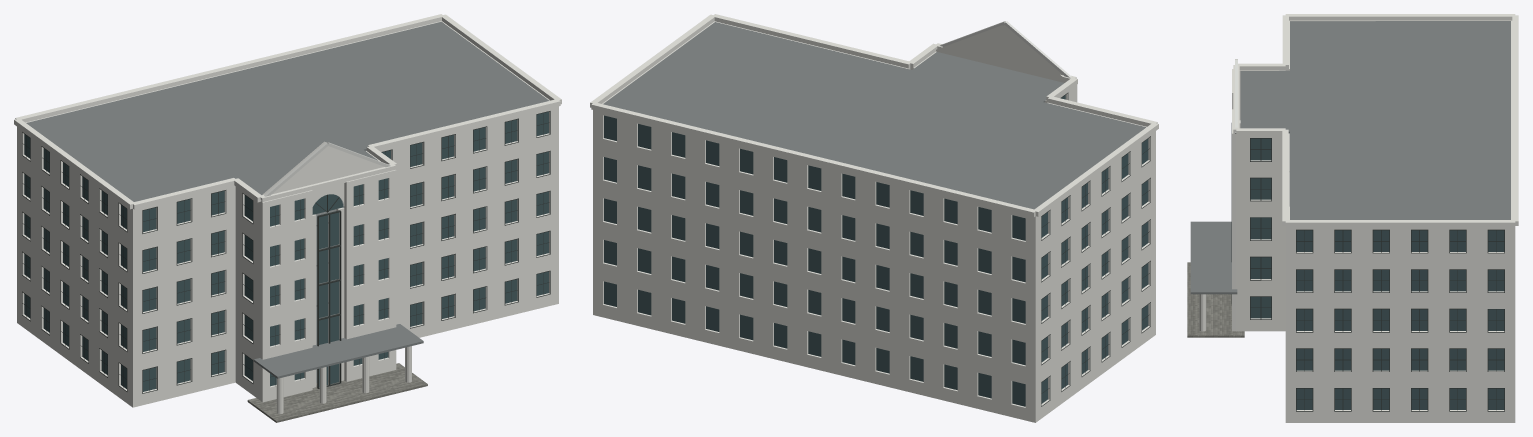
The picture shows the model from 3 angles, left to right: view 1: azimuth 30°, elevation 25°; view 2: azimuth 150°, elevation 25°; view 3: azimuth 270°, elevation 25°; orthographic projection. The views are drawn at different scales.
Visible parts, largest first — view 1: alumni__cream, alumni__roof, alumni__glass, alumni__frame, alumni__rough, alumni__light; view 2: alumni__cream, alumni__roof, alumni__glass, alumni__frame, alumni__light; view 3: alumni__roof, alumni__cream, alumni__glass, alumni__frame, alumni__rough.
Part boxes in pixels (x1,y1,x2,y2): alumni__cream: [14, 14, 561, 413]; alumni__roof: [26, 21, 548, 382]; alumni__glass: [24, 112, 548, 391]; alumni__frame: [22, 111, 550, 393]; alumni__rough: [247, 363, 427, 422]; alumni__light: [260, 142, 390, 201]; alumni__cream: [590, 14, 1158, 422]; alumni__roof: [603, 22, 1145, 209]; alumni__glass: [604, 95, 1148, 406]; alumni__frame: [1041, 92, 1150, 406]; alumni__light: [940, 21, 1071, 77]; alumni__roof: [1190, 21, 1510, 294]; alumni__cream: [1199, 14, 1518, 422]; alumni__glass: [1250, 138, 1504, 409]; alumni__frame: [1231, 123, 1504, 411]; alumni__rough: [1187, 262, 1244, 337].
Bounding box in the file's own units: 48.41 × 26.13 × 32.47.
6 materials, 1 textured.
